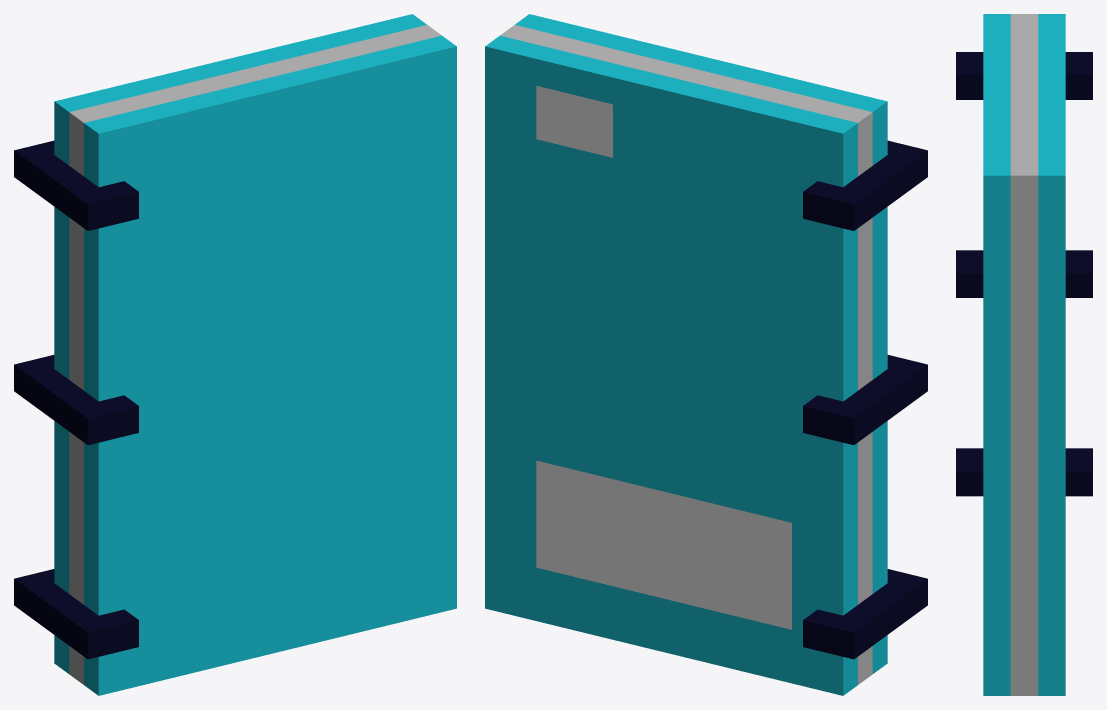
File: Book2.obj
3 renders of one model, left to right at view 1: azimuth 30°, elevation 25°; view 2: azimuth 150°, elevation 25°; view 3: azimuth 270°, elevation 25°, orthographic. The views are drawn at different scales.
Visible parts, largest first — view 1: Untitled.060; view 2: Untitled.060; view 3: Untitled.060.
Boxes of the visible parts, bbox=[...] form: Untitled.060: bbox=[14, 14, 456, 695]; Untitled.060: bbox=[485, 14, 927, 695]; Untitled.060: bbox=[956, 14, 1092, 695].
Size of the model in its own units: 1.5 by 2.1 by 0.5.
